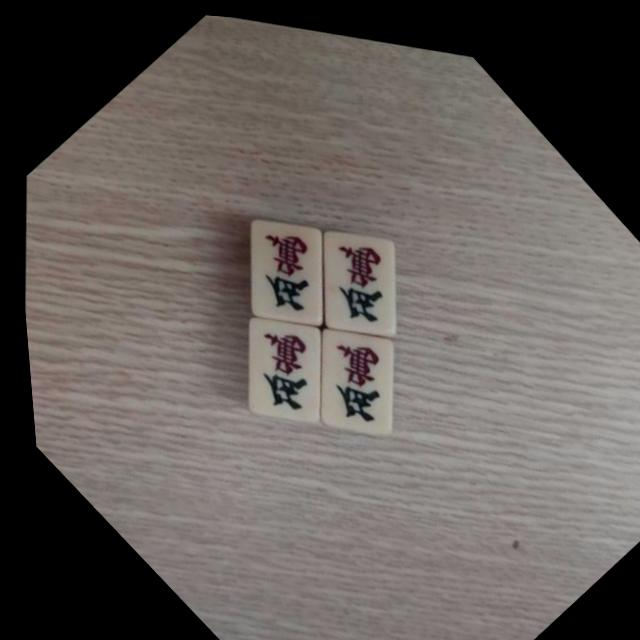sc5: (204, 288, 357, 441), (276, 299, 429, 451), (206, 188, 359, 340), (278, 199, 431, 351)
